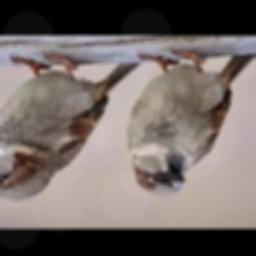Sparrow: (0, 54, 143, 202), (126, 50, 256, 198)
